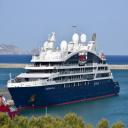cruises: (7, 31, 122, 112)
